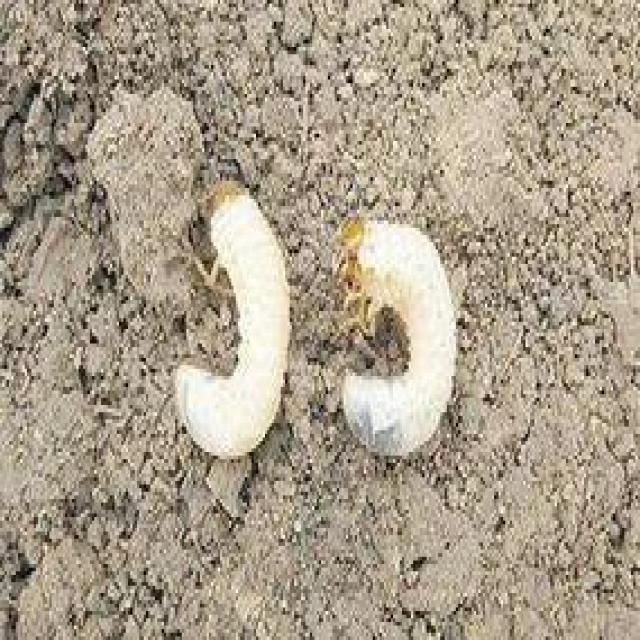Grub-Adult-: (307, 171, 475, 509), (145, 166, 311, 508)
